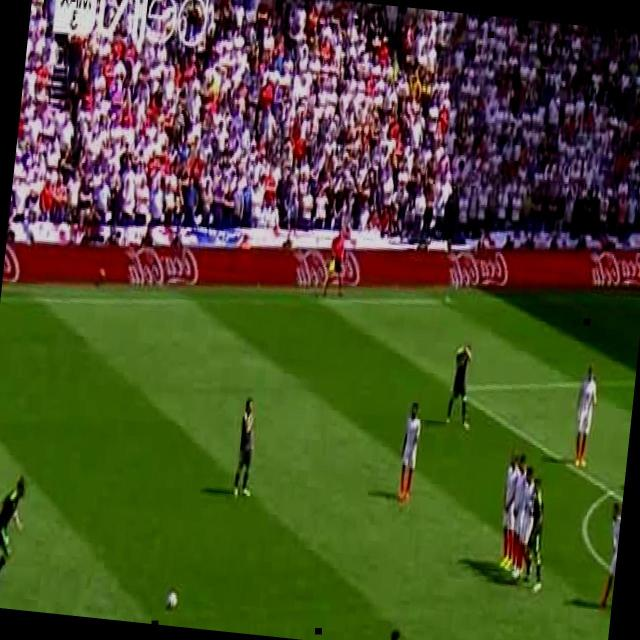ball: (164, 590, 178, 612)
player-white: (523, 475, 553, 593), (0, 470, 28, 593), (570, 367, 600, 471), (506, 452, 531, 574), (513, 466, 539, 581), (395, 401, 423, 506), (444, 344, 478, 430), (498, 447, 522, 567), (232, 398, 260, 498), (602, 503, 622, 611), (322, 228, 350, 298), (383, 628, 406, 640)
